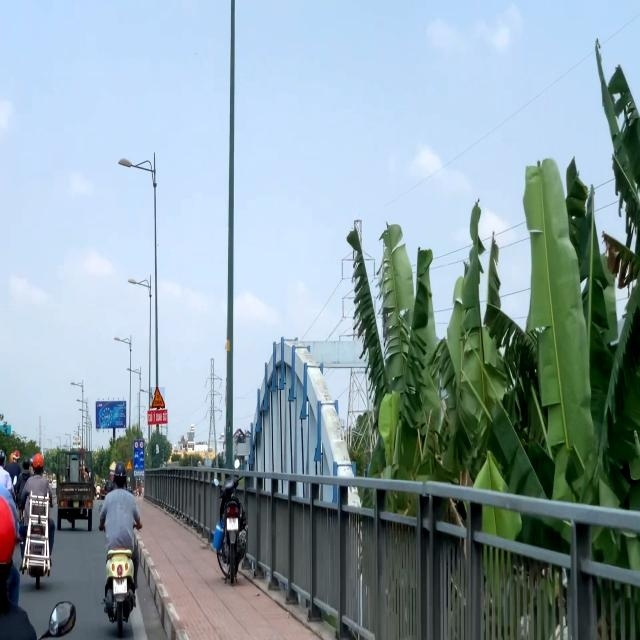bien_nguy_hiem: (150, 387, 165, 409)
